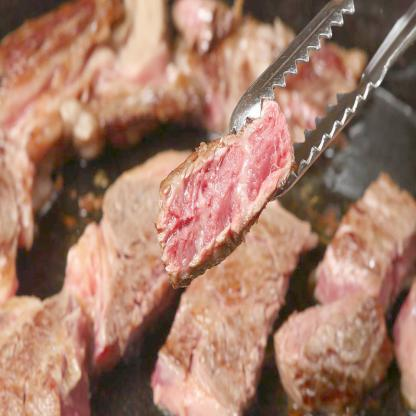Carne: (276, 164, 416, 415), (152, 190, 318, 400), (158, 89, 296, 274), (0, 280, 88, 416)
